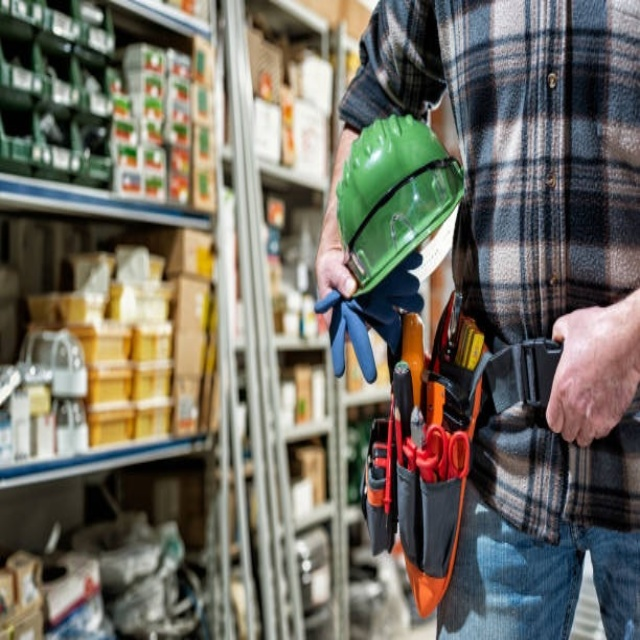Sin_guantes: (543, 294, 637, 447), (314, 239, 359, 311)
